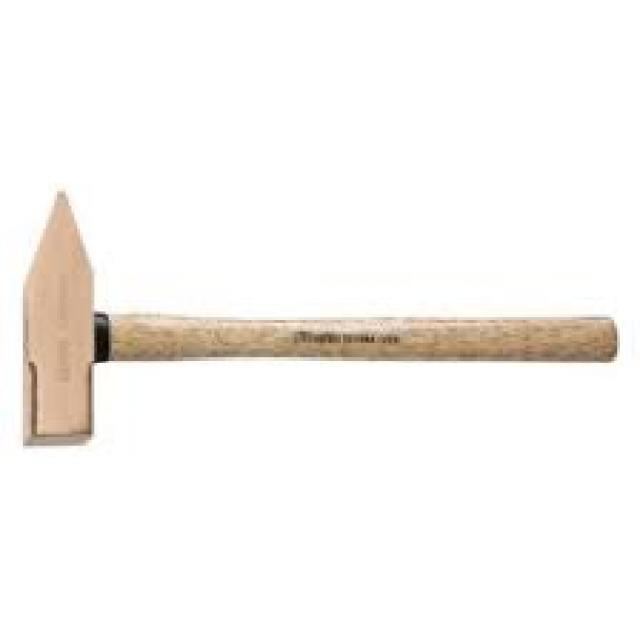hammer: (0, 181, 626, 457)
